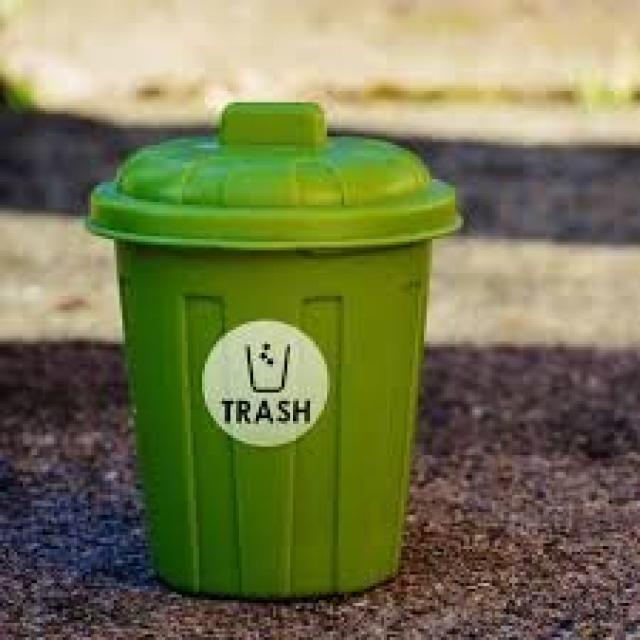Dumpster: (88, 88, 462, 598)
